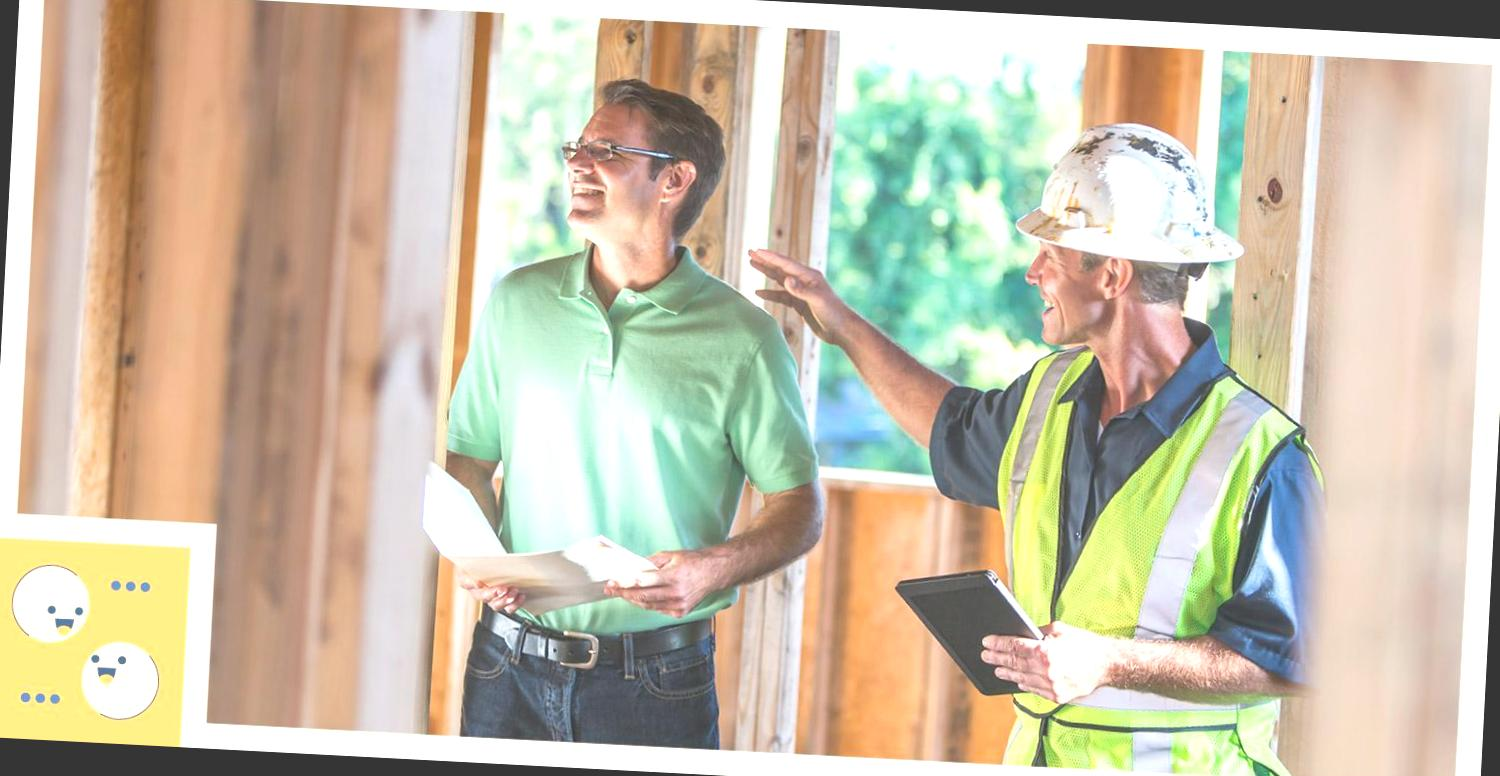helmet: (1005, 109, 1256, 283)
no_vest: (436, 249, 794, 666)
person: (912, 100, 1334, 776), (402, 60, 816, 749)
